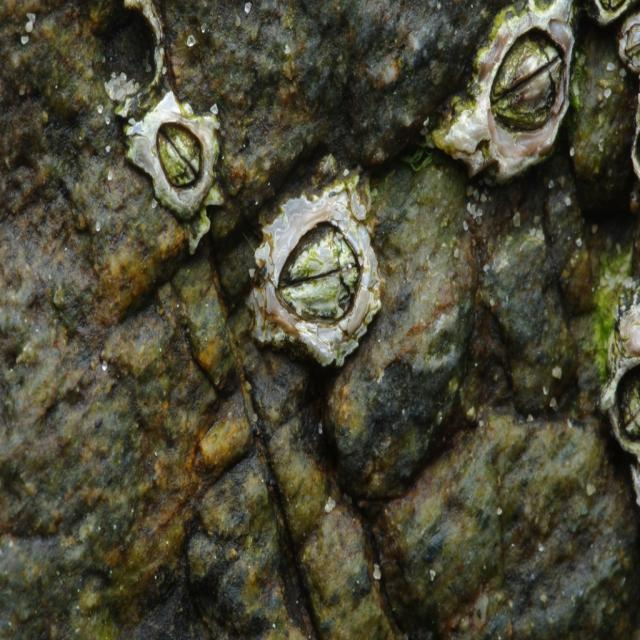barnacles: (252, 164, 382, 370), (453, 0, 583, 185), (128, 86, 222, 243)
